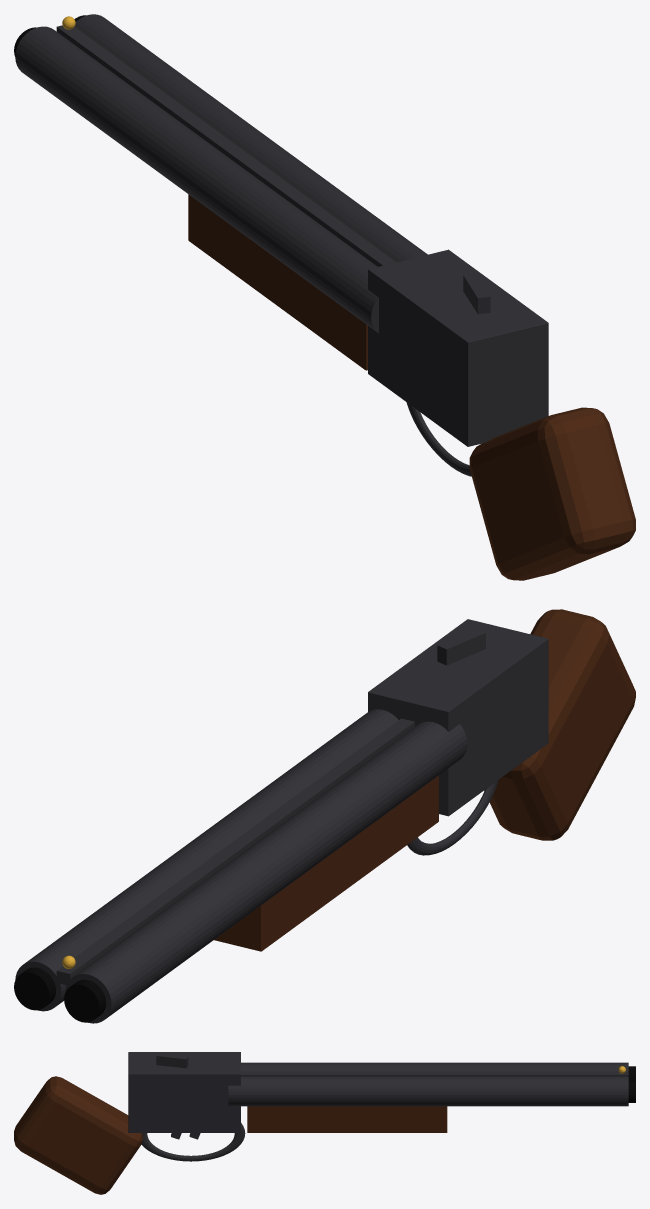
File: Shotgun_SawedOff.obj
The picture shows the model from 3 angles, top to bottom: view 1: azimuth 30°, elevation 25°; view 2: azimuth 150°, elevation 25°; view 3: azimuth 270°, elevation 25°; orthographic projection. The views are drawn at different scales.
Visible parts, largest first — view 1: Cube.001, Cylinder, Cube.003, Cylinder.002, Cube.002, Cube, Torus, Cube.004; view 2: Cylinder, Cube.001, Cube.003, Cylinder.002, Cube.002, Cube, Cylinder.003, Cylinder.001, Torus, Cube.004; view 3: Cylinder.002, Cube.003, Cube.001, Cube.002, Cylinder, Cube, Torus, Cube.004.
Boxes of the visible parts, <box> form: Cube.001: <box>368,249,548,446</box>; Cylinder: <box>15,26,378,333</box>; Cube.003: <box>469,407,635,580</box>; Cylinder.002: <box>75,14,427,262</box>; Cube.002: <box>188,194,367,370</box>; Cube: <box>56,25,395,266</box>; Torus: <box>406,402,471,476</box>; Cube.004: <box>463,274,490,314</box>; Cylinder: <box>65,721,467,1023</box>; Cube.001: <box>368,619,548,816</box>; Cube.003: <box>484,609,635,840</box>; Cylinder.002: <box>15,709,398,1011</box>; Cube.002: <box>214,775,438,951</box>; Cube: <box>56,718,414,985</box>; Cylinder.003: <box>14,967,55,1010</box>; Cylinder.001: <box>64,979,105,1022</box>; Torus: <box>407,780,498,855</box>; Cube.004: <box>437,629,485,665</box>; Cylinder.002: <box>228,1076,628,1106</box>; Cube.003: <box>14,1076,142,1194</box>; Cube.001: <box>128,1052,240,1132</box>; Cube.002: <box>247,1106,447,1132</box>; Cylinder: <box>241,1062,628,1071</box>; Cube: <box>241,1071,628,1076</box>; Torus: <box>141,1123,245,1161</box>; Cube.004: <box>156,1053,188,1068</box>.
Size of the model in its own units: 0.05 by 0.1196 by 0.4976.
